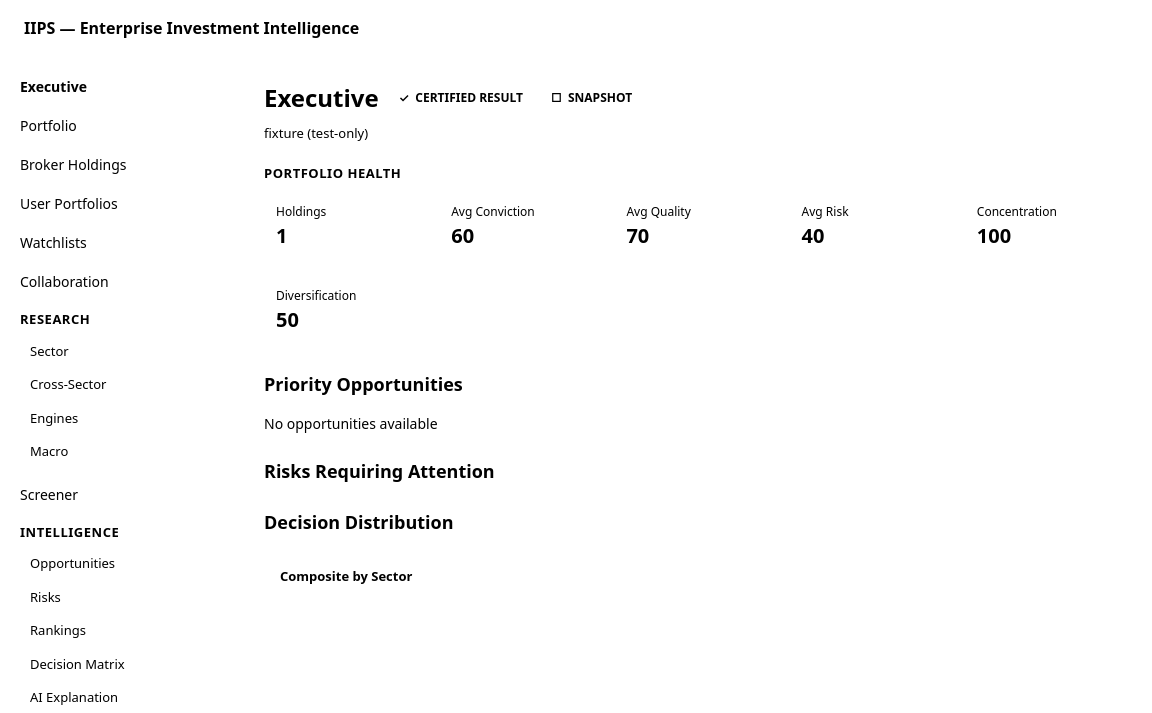
Application Shell › renders available Research destinations and navigates to Cross-Sector
Click the link "Cross-Sector".
click(68, 384)  # box left=30, top=375, right=106, bottom=393
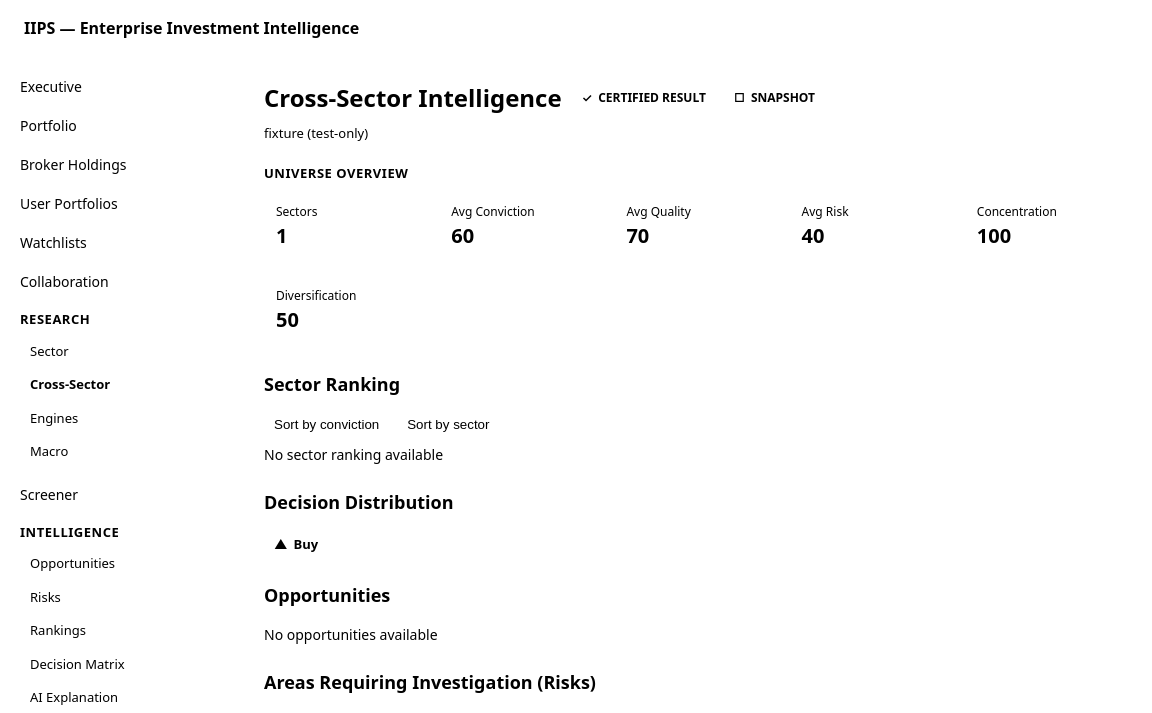
Now the heading "Cross-Sector Intelligence" is shown, box left=264, top=80, right=562, bottom=116
